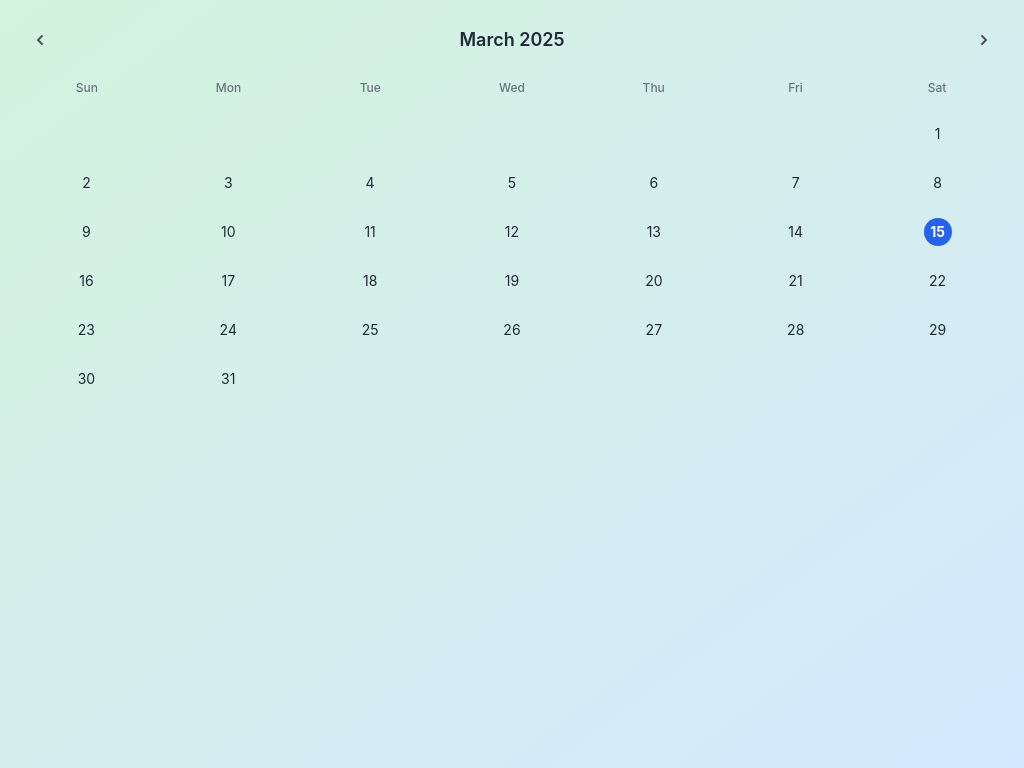
Calendar — month header and navigation › navigates to next month when next button is clicked
The image size is (1024, 768).
Click the button named "Next month".
click(984, 40)  # box [960,16,1008,64]
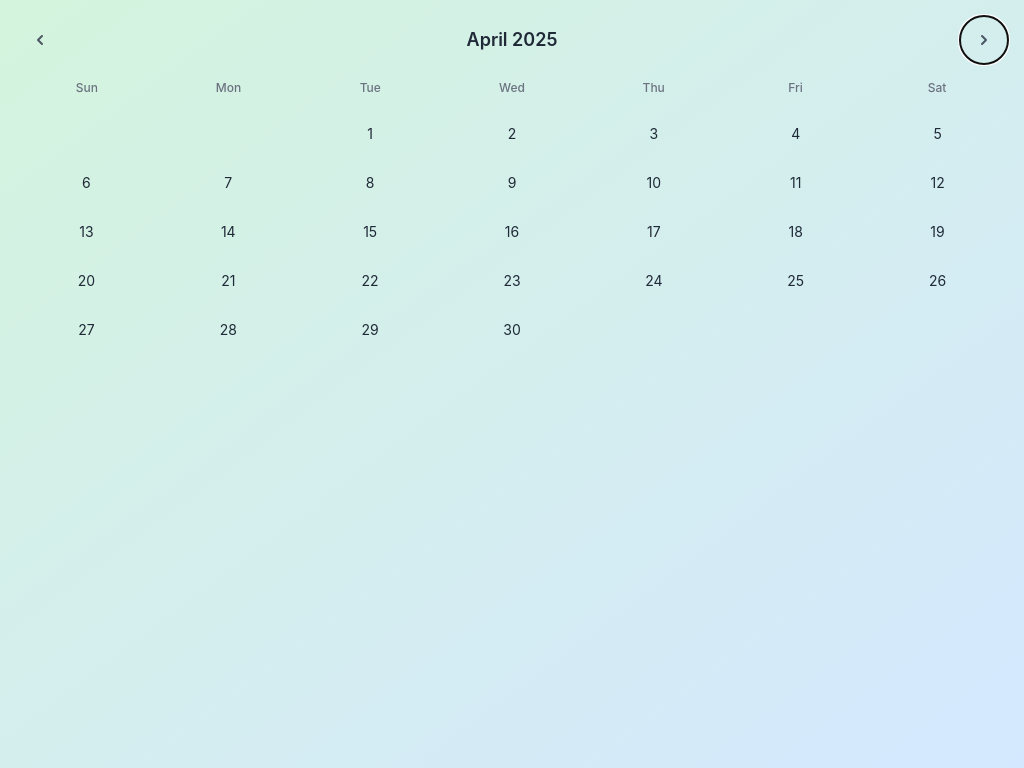
Expected: the heading "April 2025" is shown, [466,26,557,54]
